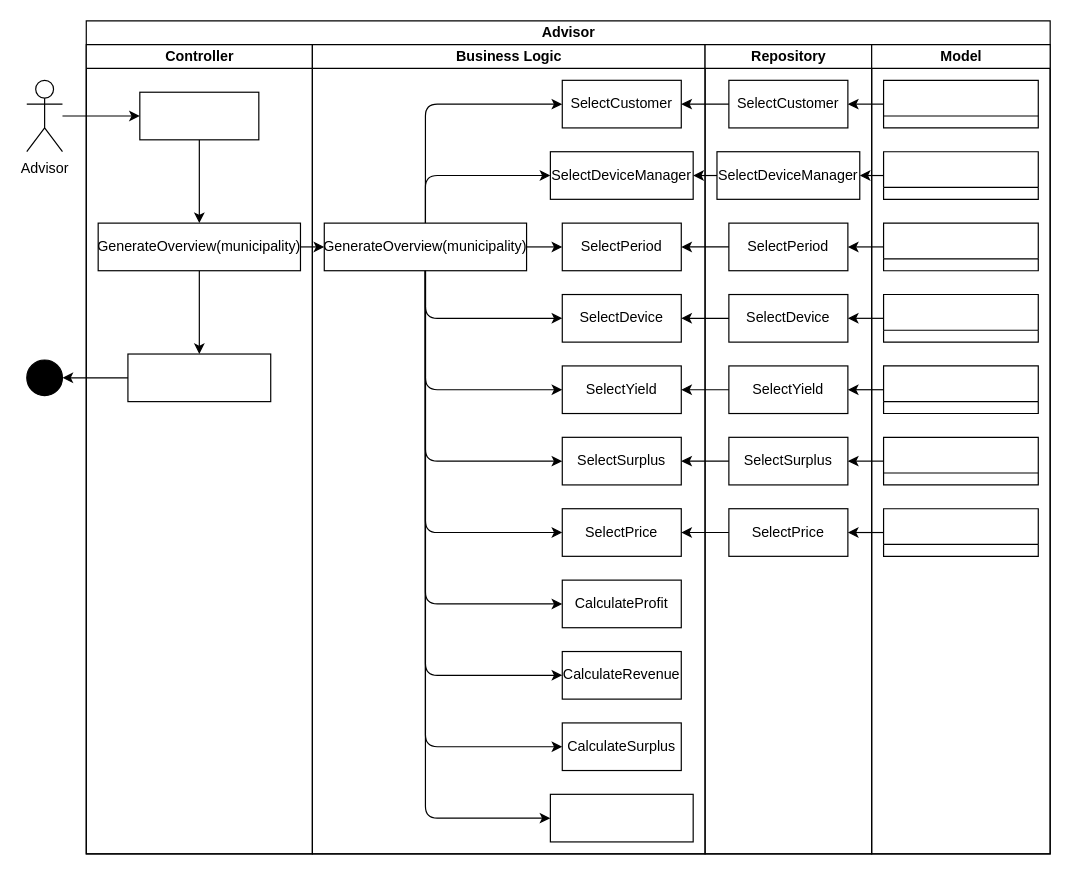
The diagram is 1071 pixels wide and 875 high, and some of its shapes have lost their labels. The shapes that lost their labels are listed below. From the top down, each one's centre as x and y in pixels, then its label:
At [199,115]: "Initialize".
At [960,103]: "Customer".
At [960,175]: "DeviceManager".
At [960,246]: "Period".
At [960,317]: "Device".
At [199,377]: "ExportSpreadsheet".
At [960,389]: "Yield".
At [960,460]: "Surplus".
At [960,532]: "Price".
At [621,817]: "GenerateSpreadsheet".
